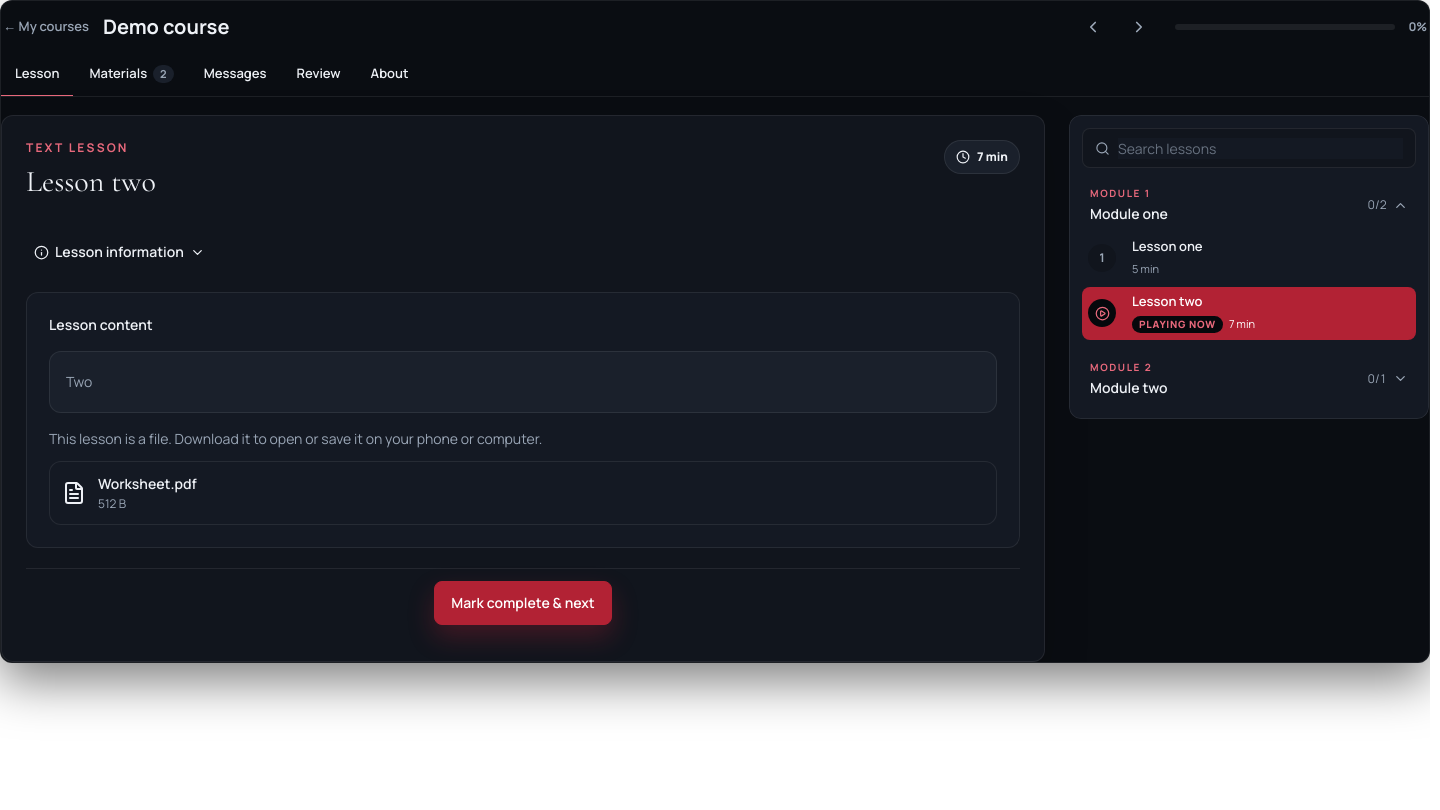
it: Informacoes da aula sob o player › com arquivos do curso, conta so os materiais da aula (miniatura nao conta)
Click the button "Lesson information" at (119, 252), box [26,230,213,274]
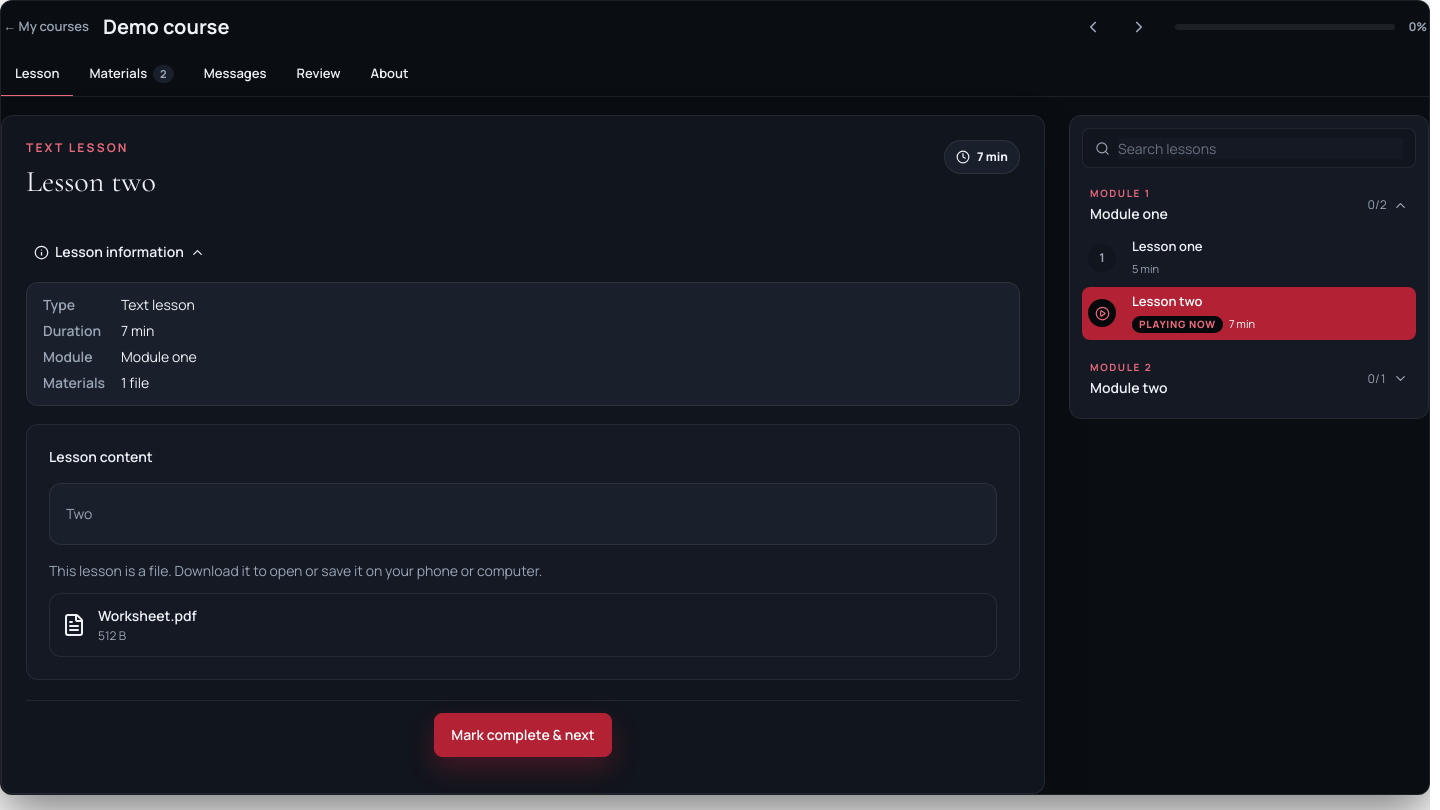
Expected: the text "Materials" is shown, [43,373,105,393]
Expected: the text "1 file" is shown, [121,373,149,392]
